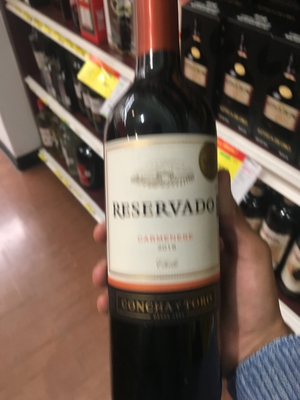reservado carmenere: (106, 16, 235, 393)
